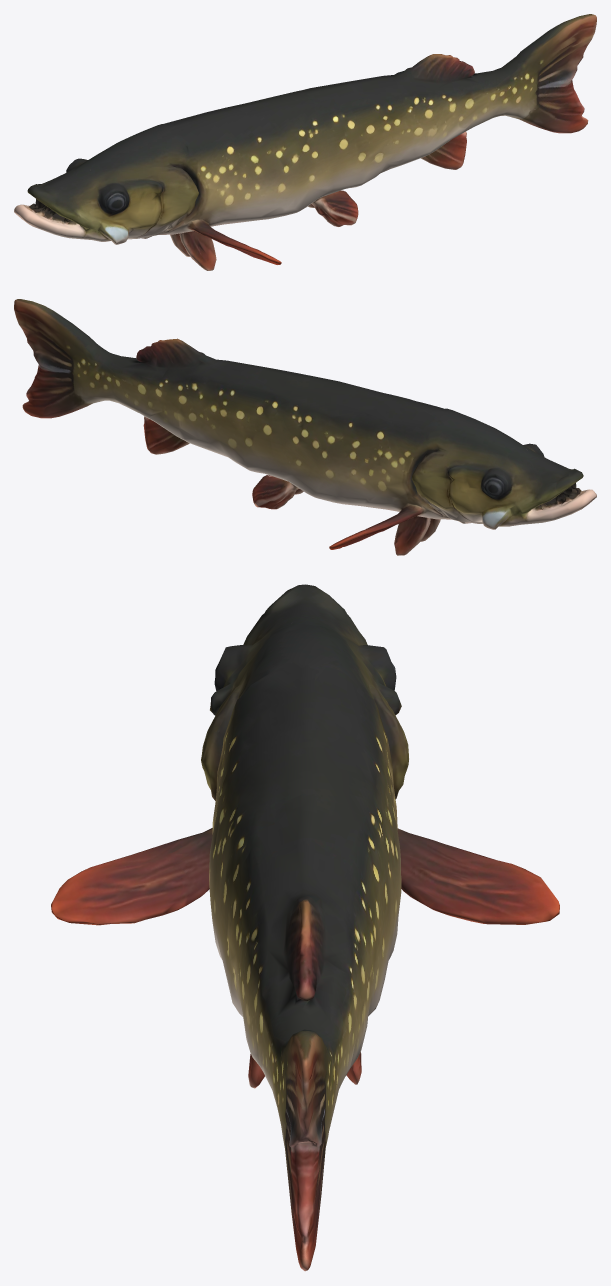
File: fish-shuka.glb
The picture shows the model from 3 angles, top to bottom: view 1: azimuth 30°, elevation 25°; view 2: azimuth 150°, elevation 25°; view 3: azimuth 270°, elevation 25°; orthographic projection. The views are drawn at different scales.
Parts seen in each view (by area): view 1: tripo_node_621d4fd0-4ac1-49af-a0cb-acb16885bdc2; view 2: tripo_node_621d4fd0-4ac1-49af-a0cb-acb16885bdc2; view 3: tripo_node_621d4fd0-4ac1-49af-a0cb-acb16885bdc2.
Part boxes in pixels (x1=…): tripo_node_621d4fd0-4ac1-49af-a0cb-acb16885bdc2: x1=14, y1=14, x2=596, y2=270; tripo_node_621d4fd0-4ac1-49af-a0cb-acb16885bdc2: x1=14, y1=299, x2=596, y2=555; tripo_node_621d4fd0-4ac1-49af-a0cb-acb16885bdc2: x1=51, y1=584, x2=559, y2=1271.
Bounding box in the file's own units: 1 × 0.2569 × 0.3813.
1 material, 1 textured.
